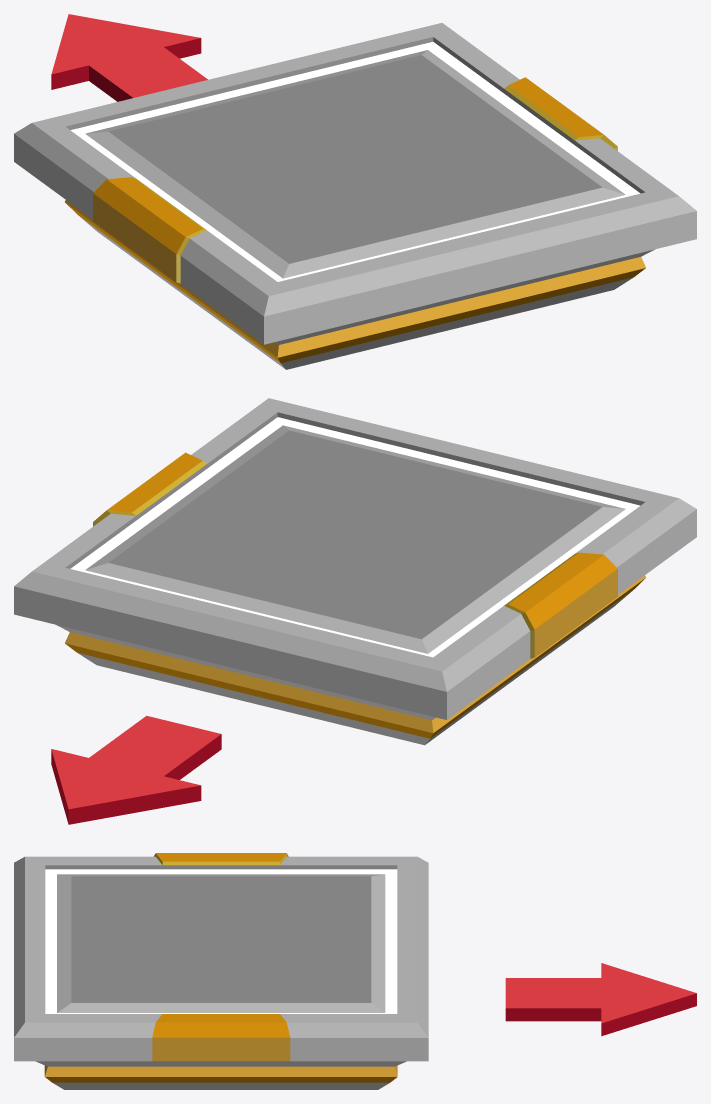
Rendered from Horizontal_Platform.glb.
The picture shows the model from 3 angles, top to bottom: view 1: azimuth 30°, elevation 25°; view 2: azimuth 150°, elevation 25°; view 3: azimuth 270°, elevation 25°; orthographic projection. The views are drawn at different scales.
Visible parts, largest first — view 1: Platform, Plane.002; view 2: Platform, Plane.002; view 3: Platform, Plane.002.
Part boxes in pixels (box(x1,y1,x2,y2)): Platform: box(14, 23, 696, 369); Plane.002: box(51, 14, 207, 101); Platform: box(14, 398, 696, 745); Plane.002: box(51, 715, 221, 824); Platform: box(14, 853, 428, 1089); Plane.002: box(505, 963, 696, 1036).
Size of the model in its own units: 2.04 by 0.6125 by 3.3.
3 materials, 2 textured.
